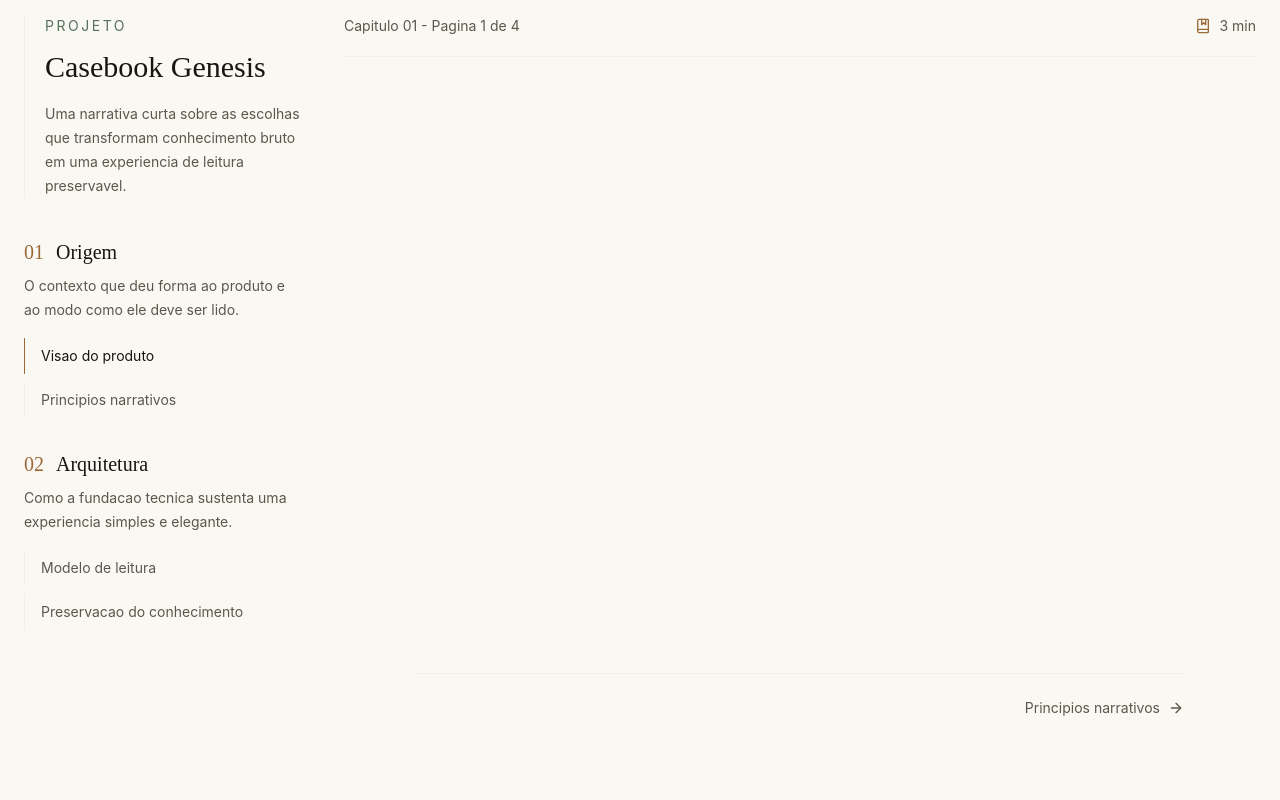
Test: ProjectReaderPage › moves through pages without leaving the reading flow
Click the link "Principios narrativos" below "Visao do produto" at (164, 400), box [24, 382, 304, 418]
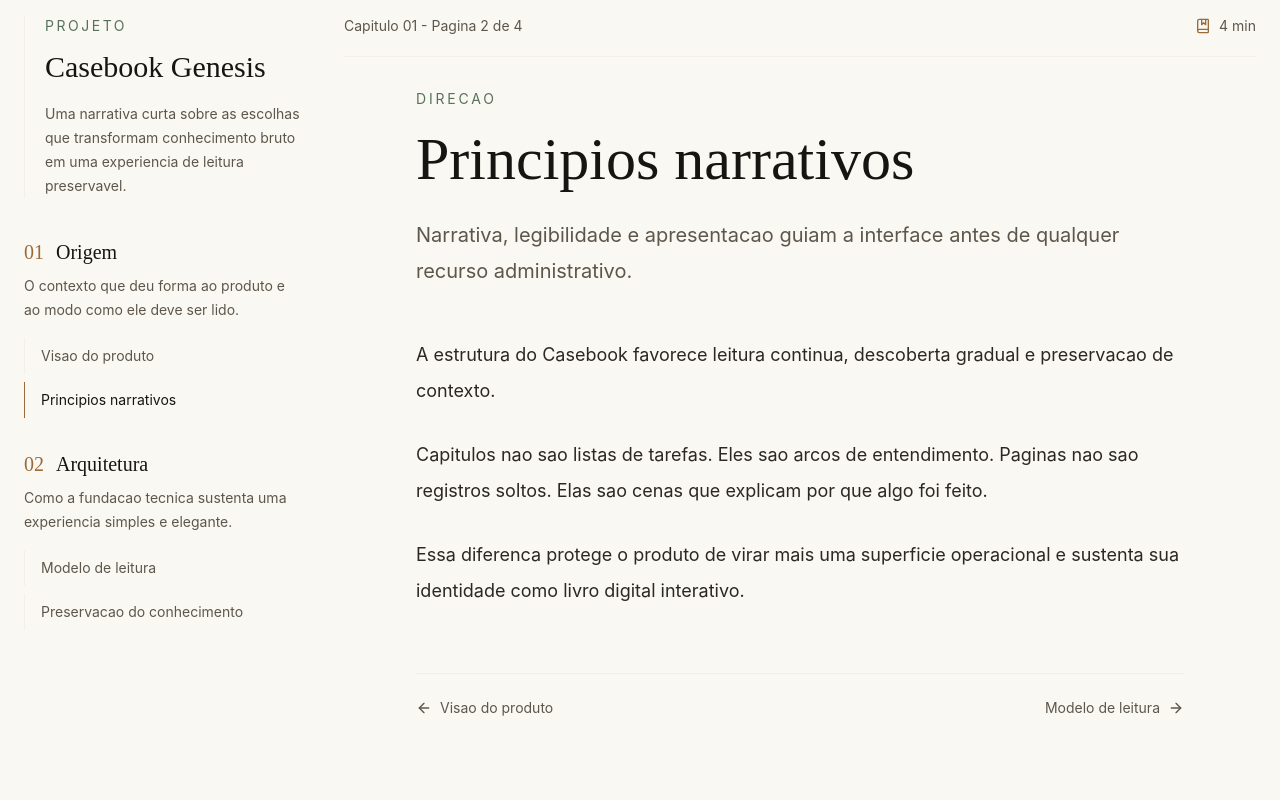
Expected: the heading "Principios narrativos" is shown, [416, 126, 914, 192]
Result: the text "Capitulo 01 - Pagina 2 de 4" is shown at [344, 16, 522, 36]
